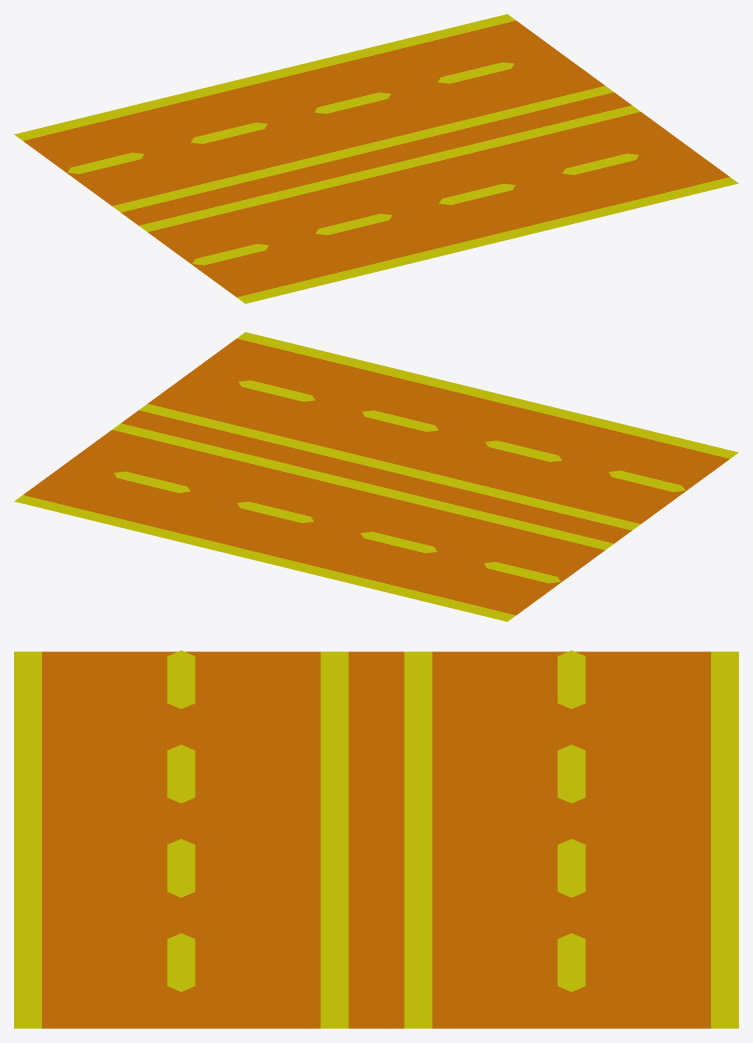
The model's file is Mesh_road_wall.fbx.
3 views of the same model, one above another, from view 1: azimuth 30°, elevation 25°; view 2: azimuth 150°, elevation 25°; view 3: azimuth 270°, elevation 25° (orthographic). The views are drawn at different scales.
Parts seen in each view (by area): view 1: Mesh_road_wall; view 2: Mesh_road_wall; view 3: Mesh_road_wall.
Boxes of the visible parts, x1,y1,x2,y2 form: Mesh_road_wall: [14, 14, 738, 303]; Mesh_road_wall: [14, 332, 738, 621]; Mesh_road_wall: [14, 650, 738, 1028].
Size of what is drawn, in the model's own units: 1600 by 2.5 by 1300.
